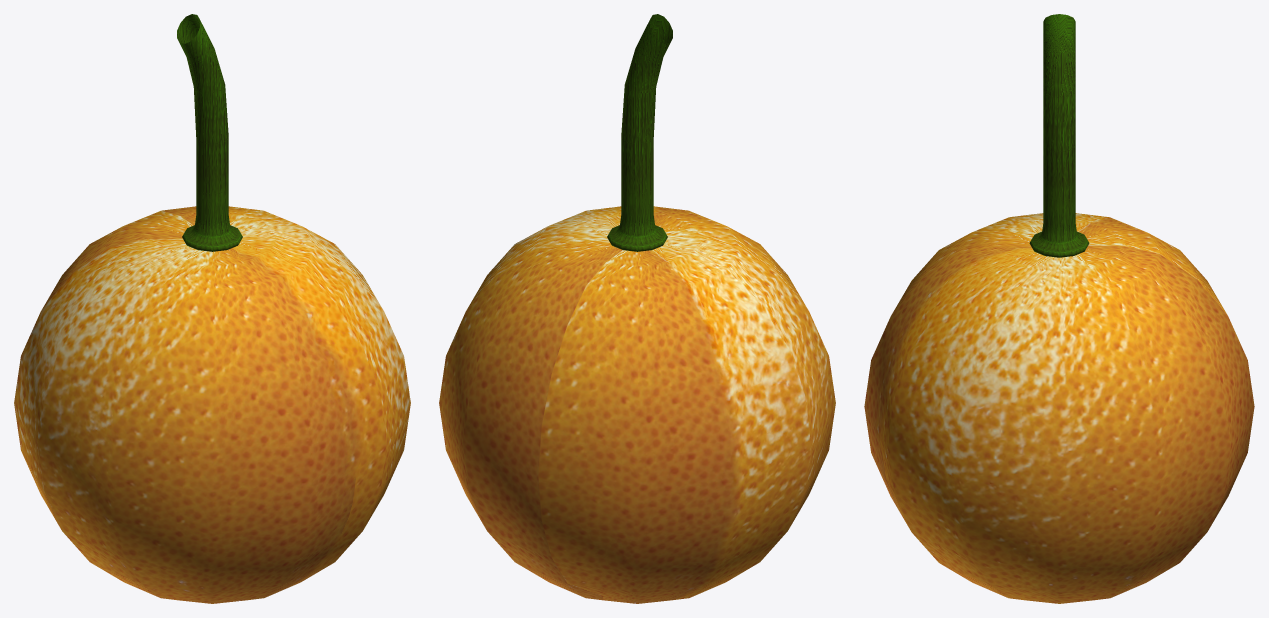
File: grapefruit.fbx
3 views of the same model, side by side, from view 1: azimuth 30°, elevation 25°; view 2: azimuth 150°, elevation 25°; view 3: azimuth 270°, elevation 25° (orthographic).
Visible parts, largest first — view 1: grapefruit1, stem; view 2: grapefruit1, stem; view 3: grapefruit1, stem.
Part boxes in pixels (left/top/right/bottom): grapefruit1: left=14, top=206, right=410, bottom=603; stem: left=177, top=14, right=242, bottom=251; grapefruit1: left=439, top=206, right=835, bottom=603; stem: left=607, top=14, right=672, bottom=251; grapefruit1: left=864, top=213, right=1254, bottom=603; stem: left=1029, top=14, right=1089, bottom=257.
Bounding box in the file's own units: 1.69 × 2.67 × 1.67.
